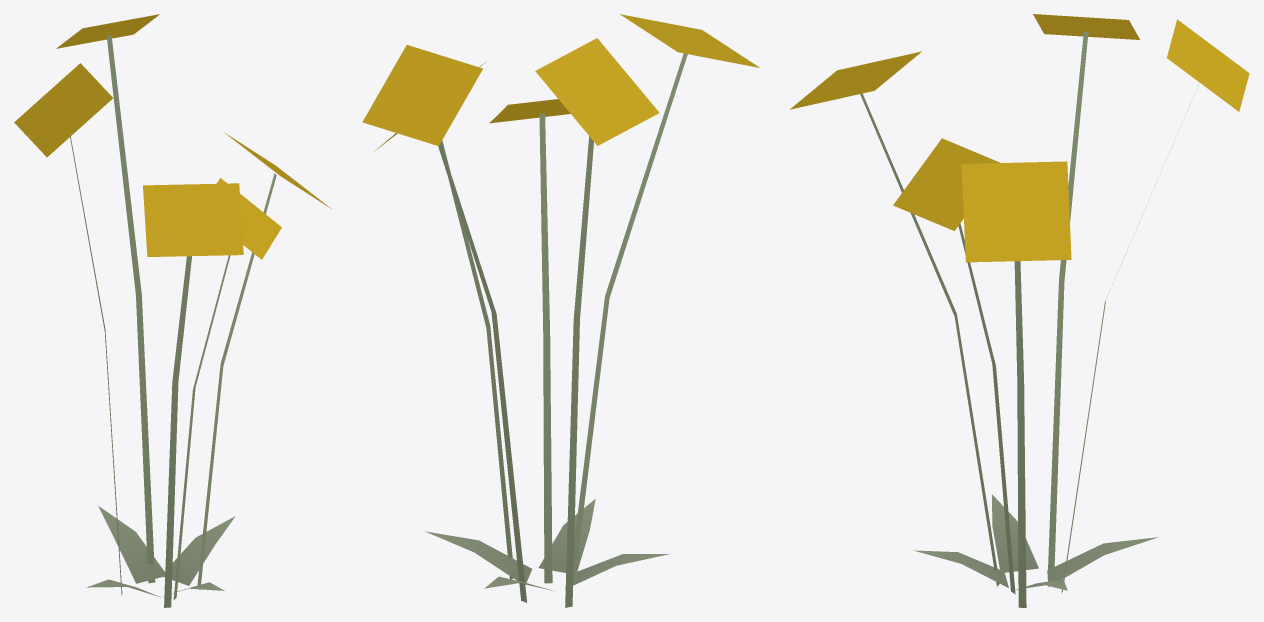
Rendered from flower.desert.yellow.glb.
3 views of the same model, side by side, from view 1: azimuth 30°, elevation 25°; view 2: azimuth 150°, elevation 25°; view 3: azimuth 270°, elevation 25° (orthographic). The views are drawn at different scales.
Parts seen in each view (by area): view 1: flower_desert_yellow; view 2: flower_desert_yellow; view 3: flower_desert_yellow.
Part boxes in pixels (bbox=[...]): flower_desert_yellow: bbox=[14, 14, 332, 607]; flower_desert_yellow: bbox=[362, 14, 759, 607]; flower_desert_yellow: bbox=[790, 14, 1249, 607].
Bounding box in the file's own units: 0.2747 × 0.544 × 0.4019.
